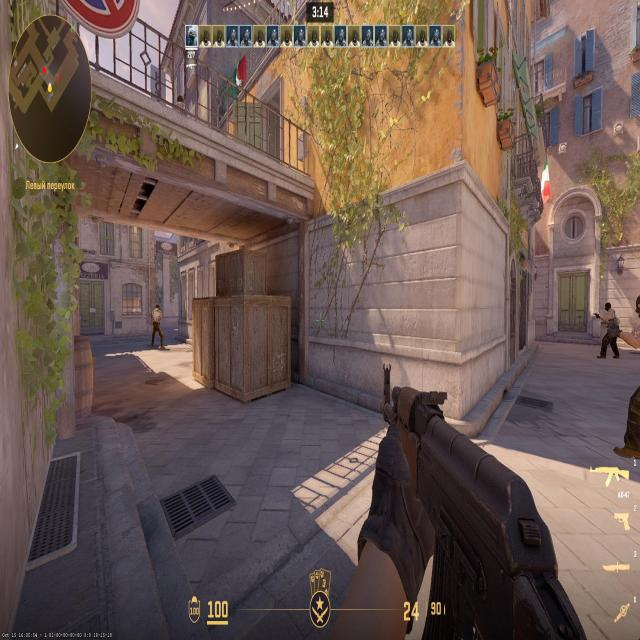T: (606, 302, 618, 351), (152, 307, 160, 336)
T_heat: (606, 304, 610, 317), (154, 309, 158, 316)
